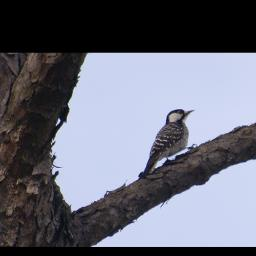Woodpecker: (134, 105, 201, 183)
